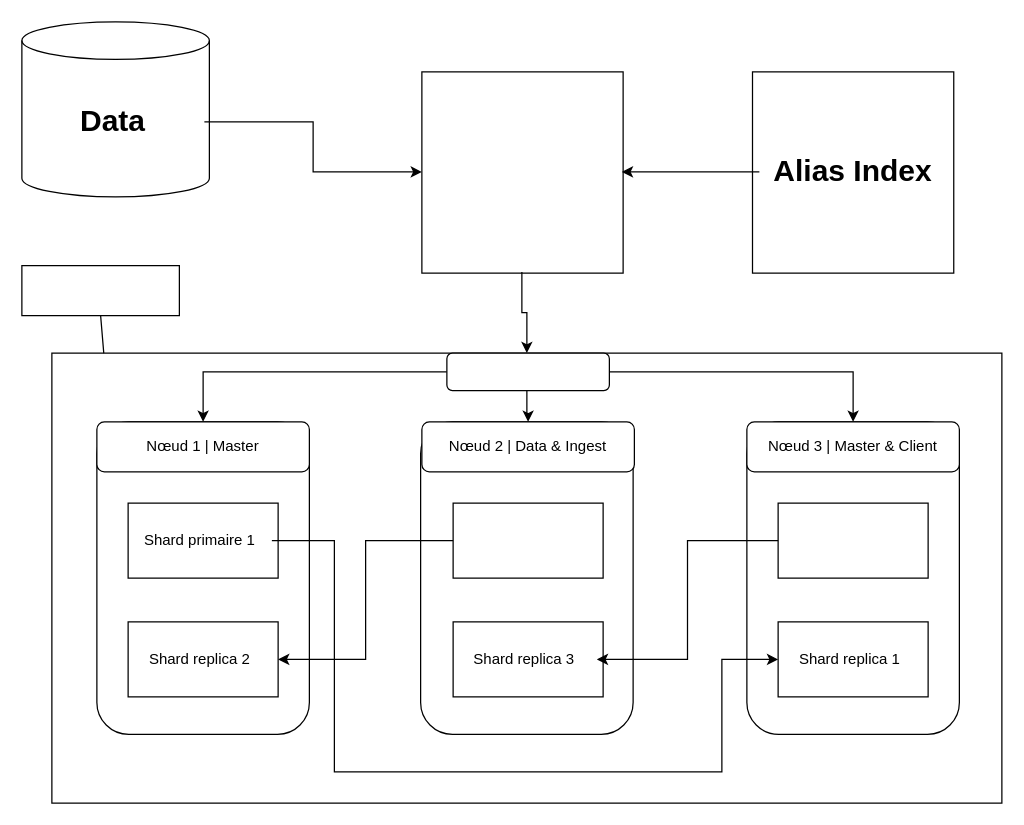
This 1024x825 diagram has some shape labels left out. Each missing label, with the centre of its shape:
"Cluster" belongs at point 100,308.
"Index" belongs at point 522,172.
"Shard primaire 2" belongs at point 527,540.
"Shard primaire 3" belongs at point 852,540.
"Sharping" belongs at point 527,371.
